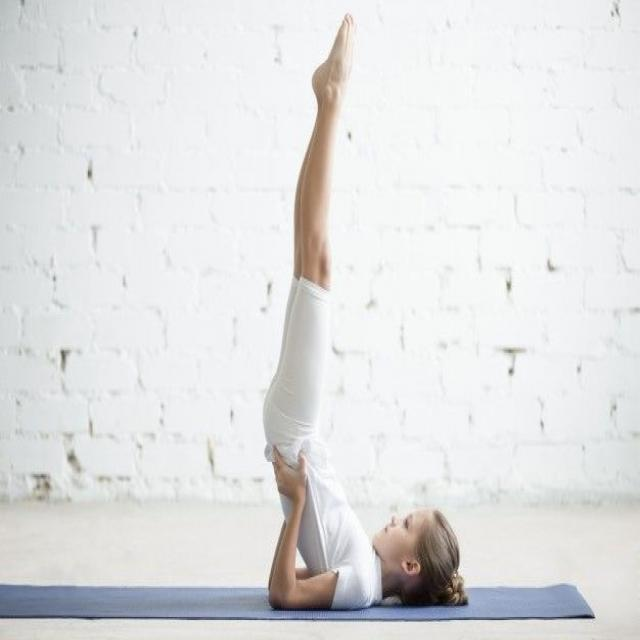yoga-pose shoulderstand: (261, 16, 462, 614)
